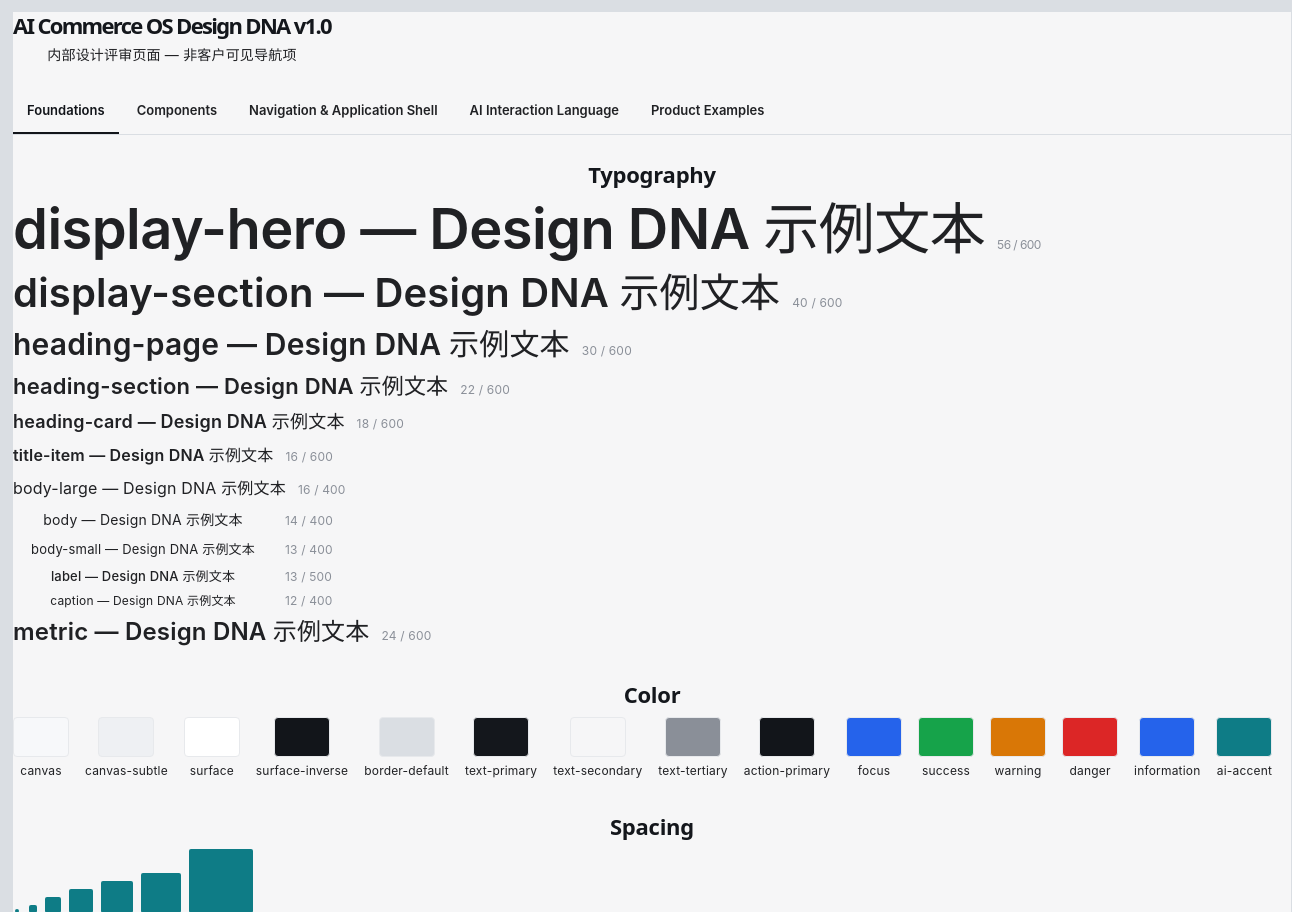
Test: Design DNA showcase route › switching to the AI Interaction Language tab shows the six-stage loop
Step 1. Click the button "AI Interaction Language" → click(544, 111), box [456,88,633,134]
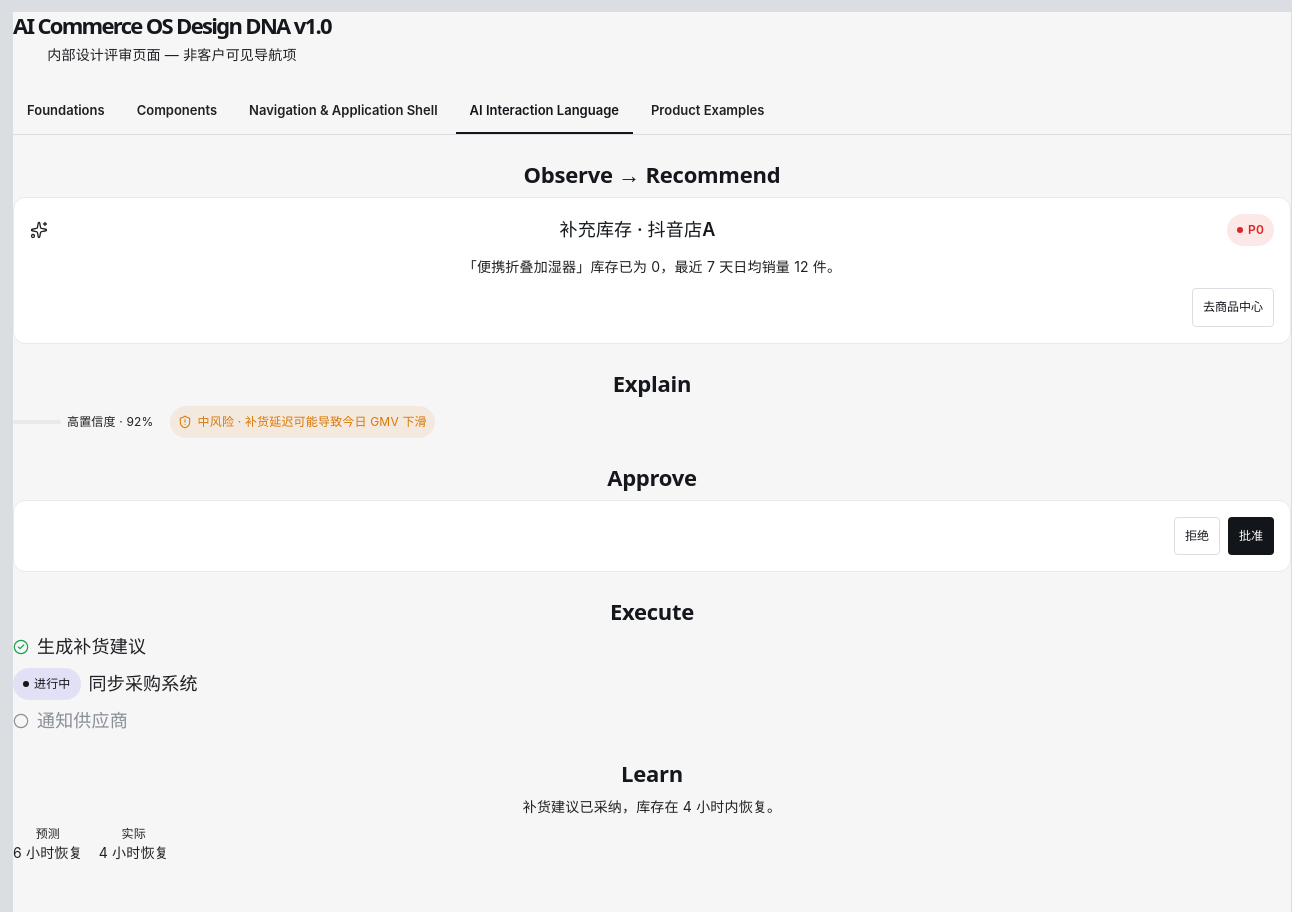
Check: the heading "Observe → Recommend" is shown, box [524,159,780,189]
Check: the heading "Explain" is shown, box [613,368,691,398]
Check: the heading "Approve" is shown, box [607,462,697,492]
